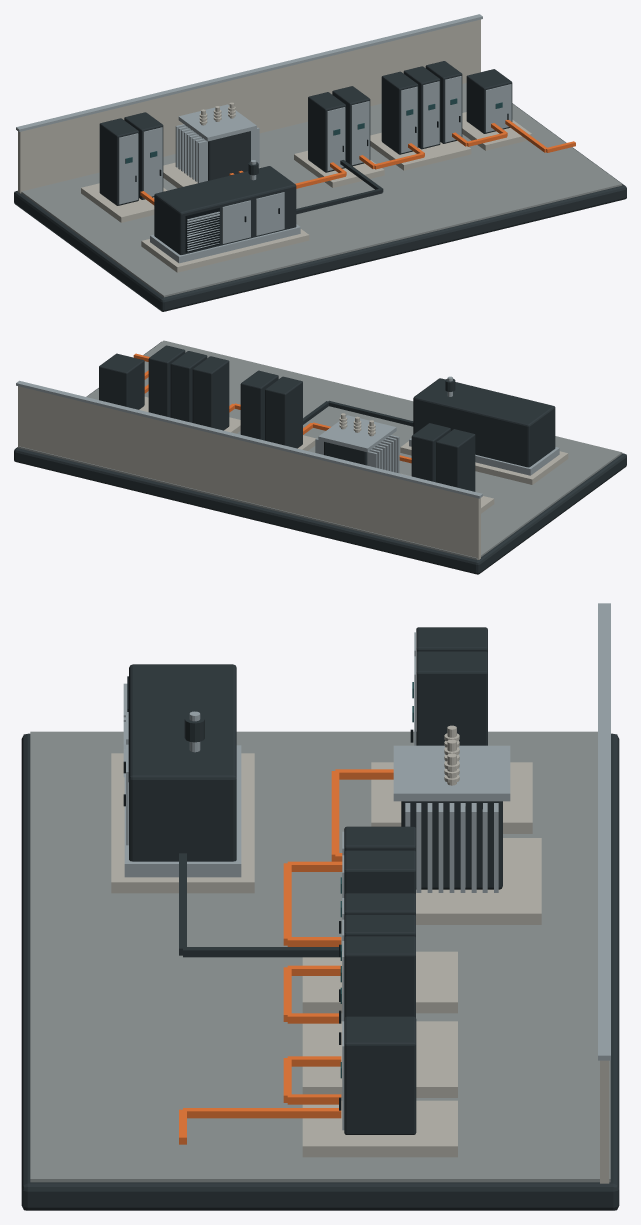
File: electrical-services-mobile.glb
3 renders of one model, top to bottom at view 1: azimuth 30°, elevation 25°; view 2: azimuth 150°, elevation 25°; view 3: azimuth 270°, elevation 25°, orthographic. The views are drawn at different scales.
Visible parts, largest first — view 1: Architecture_Paving, Architecture_BackWall, Backup_Generator_01, Architecture_Foundation, Architecture, Primary_Transformer_01, UPS, Primary_Switchgear_01, Architecture_BackCoping, LV_DistributionBoard_01, Outgoing_FeederPillar_01, Primary_Switchgear_02 (+7 smaller); view 2: Architecture_BackWall, Architecture_Paving, Architecture_Foundation, Backup_Generator_01, UPS, Primary_Transformer_01, Architecture_BackCoping, LV_DistributionBoard_01, Outgoing_FeederPillar_01, Primary_Switchgear_01, Architecture, LV_DistributionBoard_03 (+3 smaller); view 3: Architecture_Paving, Architecture, Architecture_Foundation, Backup_Generator_01, Primary_Transformer_01, Outgoing_FeederPillar_01, Primary_Switchgear_02, LV_DistributionBoard_03, Architecture_BackCoping, UPS, Path_BackupToUPS, Path_Outgoing (+8 smaller).
Boxes of the visible parts, x1,y1,x2,y2 form: Architecture_Paving: [21, 83, 622, 297]; Architecture_BackWall: [18, 19, 480, 193]; Backup_Generator_01: [150, 160, 300, 263]; Architecture_Foundation: [14, 103, 626, 311]; Architecture: [81, 112, 531, 272]; Primary_Transformer_01: [175, 102, 259, 183]; UPS: [308, 86, 370, 172]; Primary_Switchgear_01: [99, 118, 138, 205]; Architecture_BackCoping: [16, 14, 482, 131]; LV_DistributionBoard_01: [381, 71, 418, 154]; Outgoing_FeederPillar_01: [466, 69, 512, 133]; Primary_Switchgear_02: [124, 112, 163, 199]; Architecture_BackWall: [18, 386, 480, 559]; Architecture_Paving: [18, 340, 622, 559]; Architecture_Foundation: [14, 341, 626, 574]; Backup_Generator_01: [409, 376, 559, 475]; UPS: [240, 370, 302, 448]; Primary_Transformer_01: [315, 413, 399, 473]; Architecture_BackCoping: [16, 380, 482, 498]; LV_DistributionBoard_01: [192, 356, 229, 430]; Outgoing_FeederPillar_01: [99, 353, 144, 409]; Primary_Switchgear_01: [436, 429, 475, 491]; Architecture: [139, 396, 568, 513]; LV_DistributionBoard_03: [148, 345, 185, 417]; Architecture_Paving: [30, 731, 610, 1182]; Architecture: [111, 753, 541, 1157]; Architecture_Foundation: [21, 733, 619, 1210]; Backup_Generator_01: [123, 664, 241, 877]; Primary_Transformer_01: [393, 725, 510, 892]; Outgoing_FeederPillar_01: [339, 1016, 416, 1134]; Primary_Switchgear_02: [412, 651, 487, 745]; LV_DistributionBoard_03: [339, 936, 415, 1044]; Architecture_BackCoping: [598, 603, 610, 1060]; UPS: [339, 826, 415, 957]; Path_BackupToUPS: [179, 853, 338, 957]; Path_Outgoing: [179, 1108, 341, 1144].
Size of the model in its own units: 18 by 3.4 by 10.
